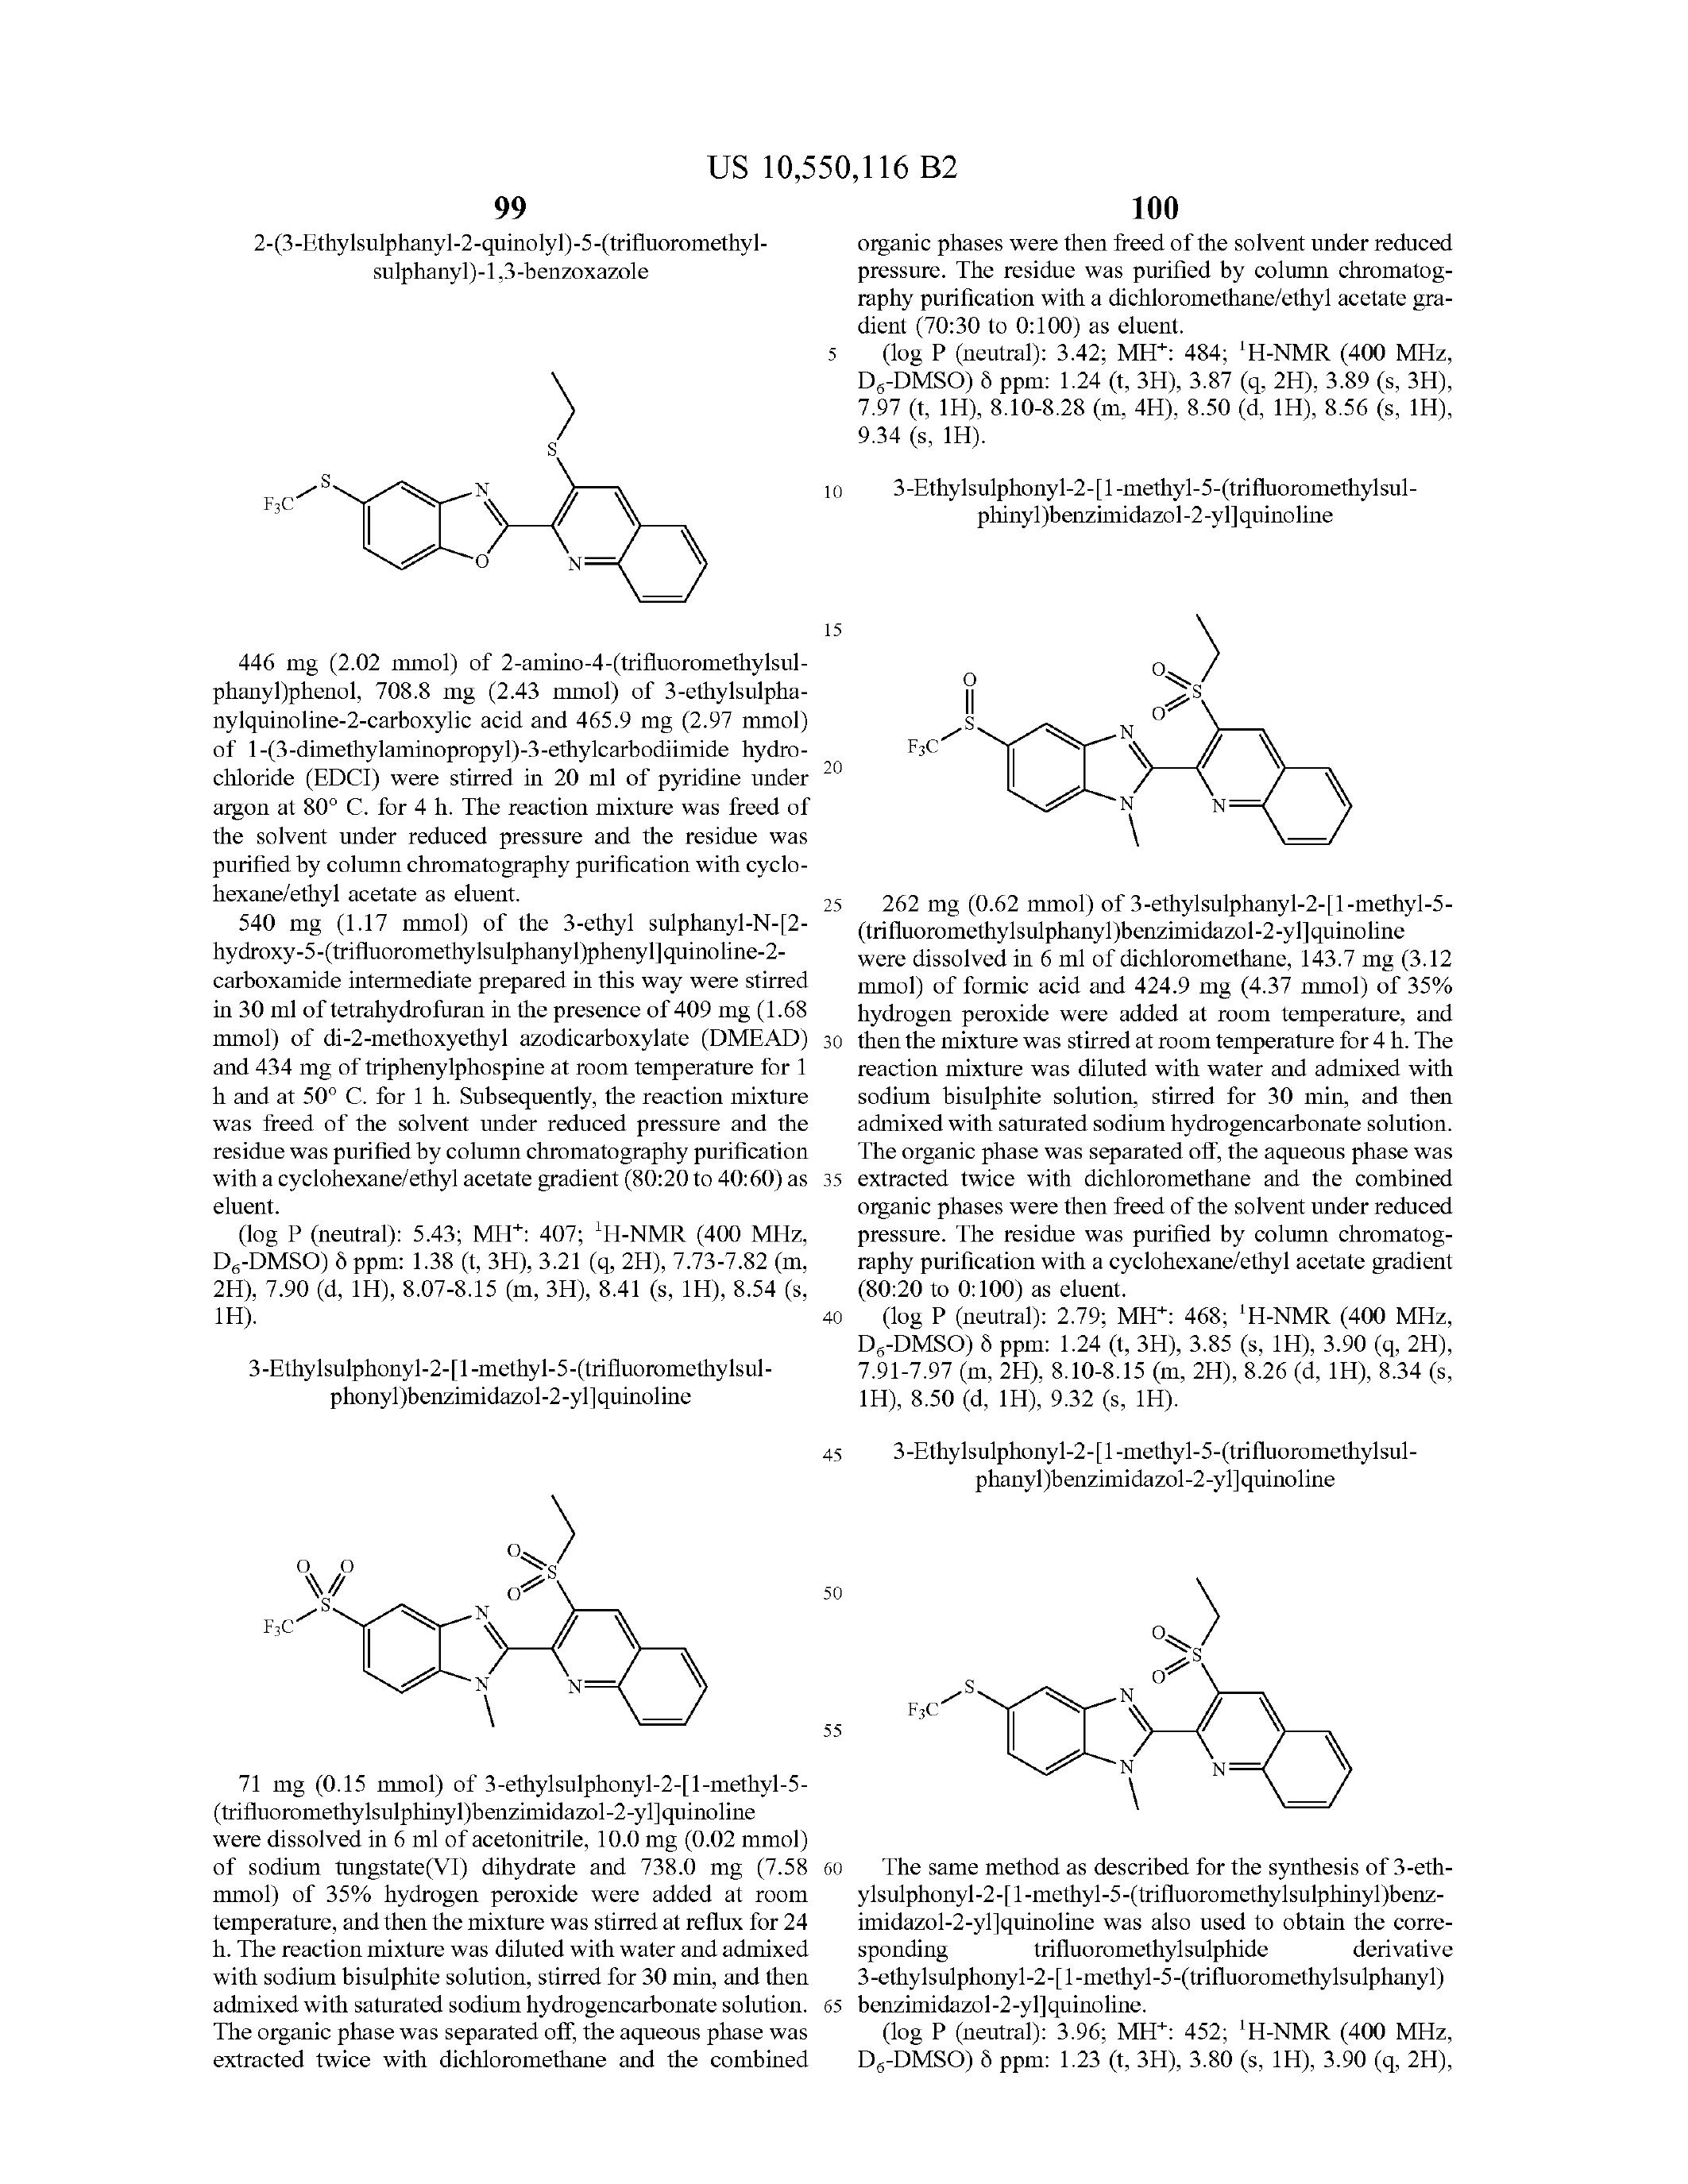intermediates: (181, 1436, 778, 1751), (887, 589, 1399, 883), (892, 1539, 1392, 1831)
relevant-structures: (215, 330, 770, 631)
